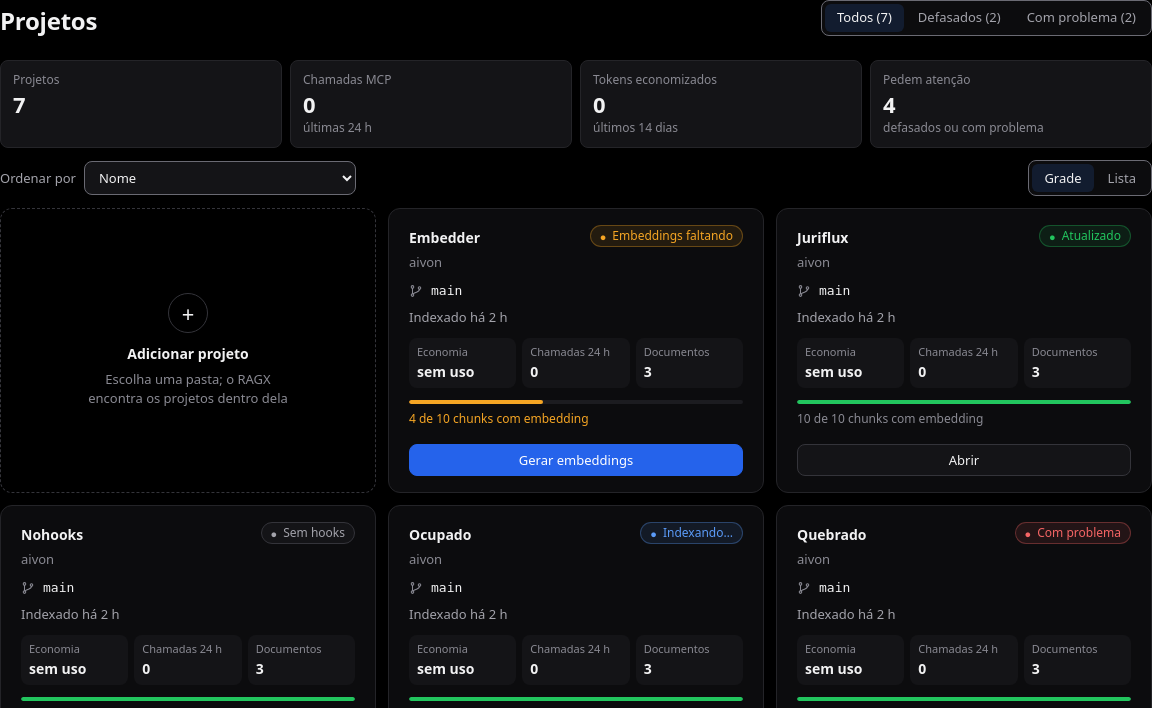
Test: ProjectsPage › o card "Adicionar projeto" vem primeiro e abre o diálogo
Click the button "Adicionar projeto": point(188, 351) [0,208,376,493]
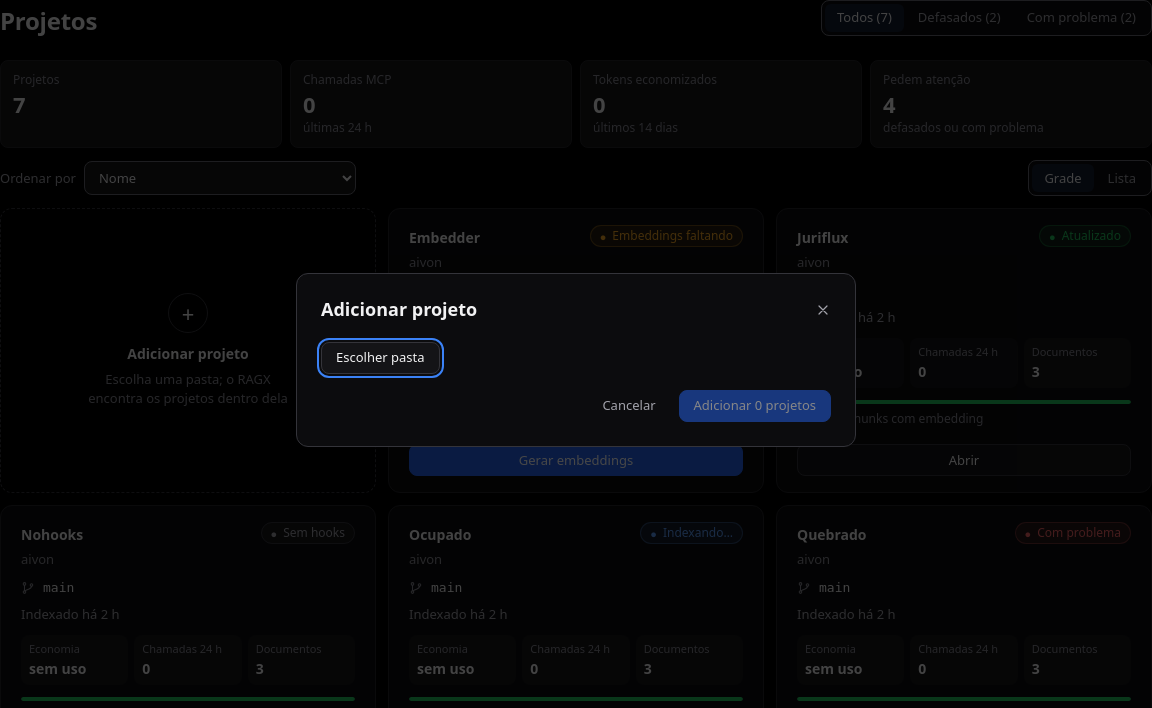
Result: the dialog "Adicionar projeto" is shown at [296,273,856,447]
